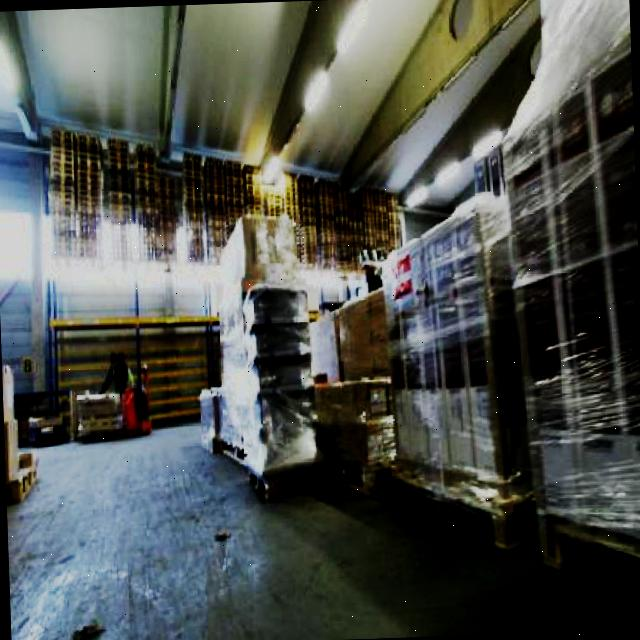ground: (5, 401, 640, 640)
pallet: (300, 0, 640, 629), (497, 11, 640, 616), (45, 113, 403, 280), (380, 190, 536, 553), (209, 278, 332, 501), (50, 310, 225, 434), (0, 278, 45, 608), (536, 501, 640, 614), (313, 373, 398, 497), (3, 359, 42, 506)
